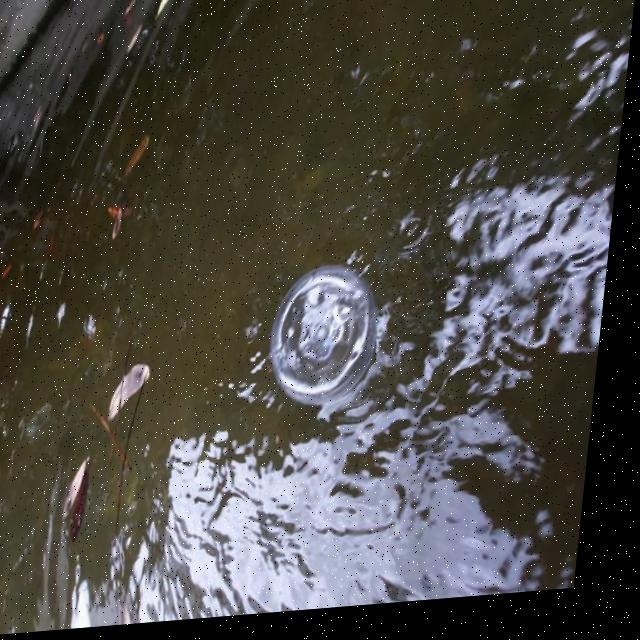leaf: (52, 456, 128, 562), (109, 346, 175, 432)
waterbottle: (263, 267, 395, 447)
